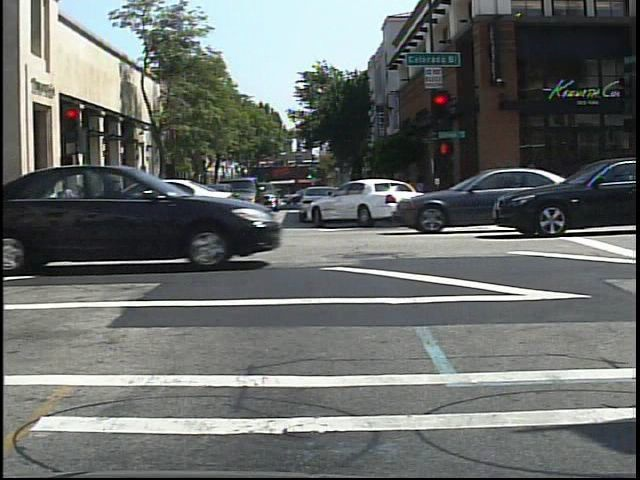person: (135, 181, 154, 219), (132, 181, 148, 215)
